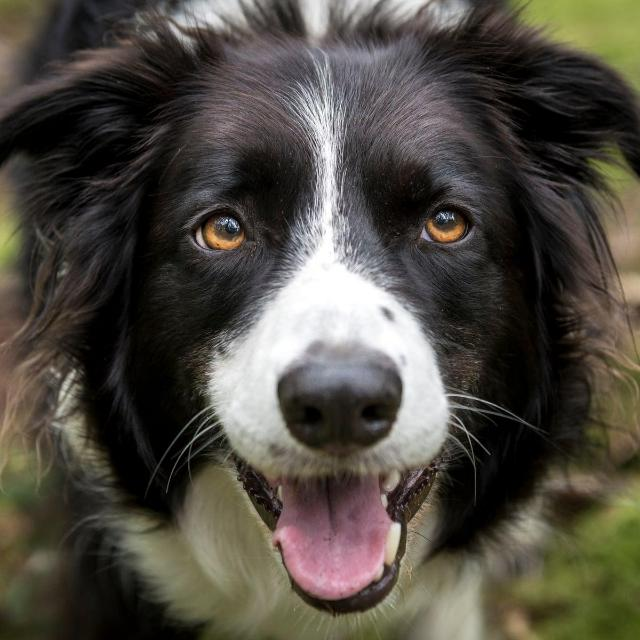dog: (3, 29, 639, 618)
